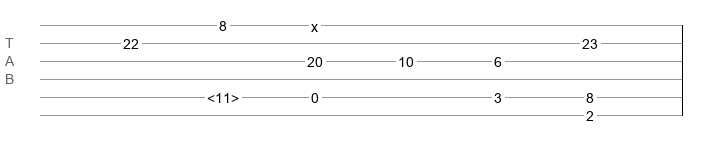0: (311, 90, 319, 100)
10: (398, 54, 414, 64)
2: (586, 108, 594, 118)
20: (307, 54, 323, 64)
22: (123, 36, 139, 46)
23: (582, 36, 598, 46)
3: (494, 90, 502, 100)
6: (494, 54, 502, 64)
8: (219, 18, 227, 28), (586, 90, 594, 100)
harmonic: (207, 90, 239, 100)
x: (311, 19, 318, 27)
